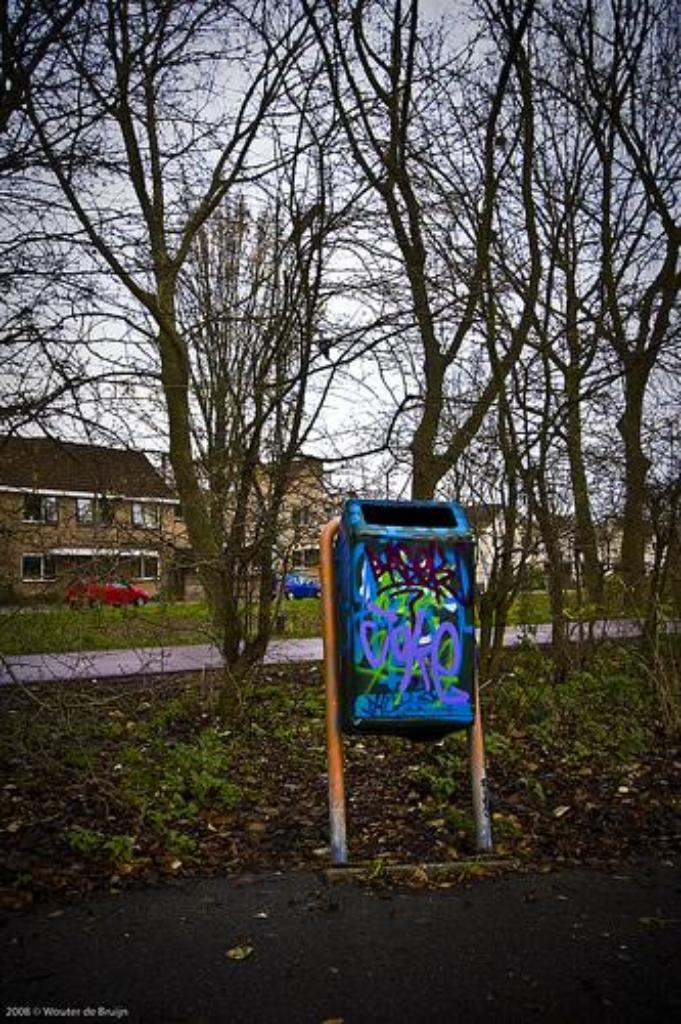dustbin: (276, 464, 526, 862)
